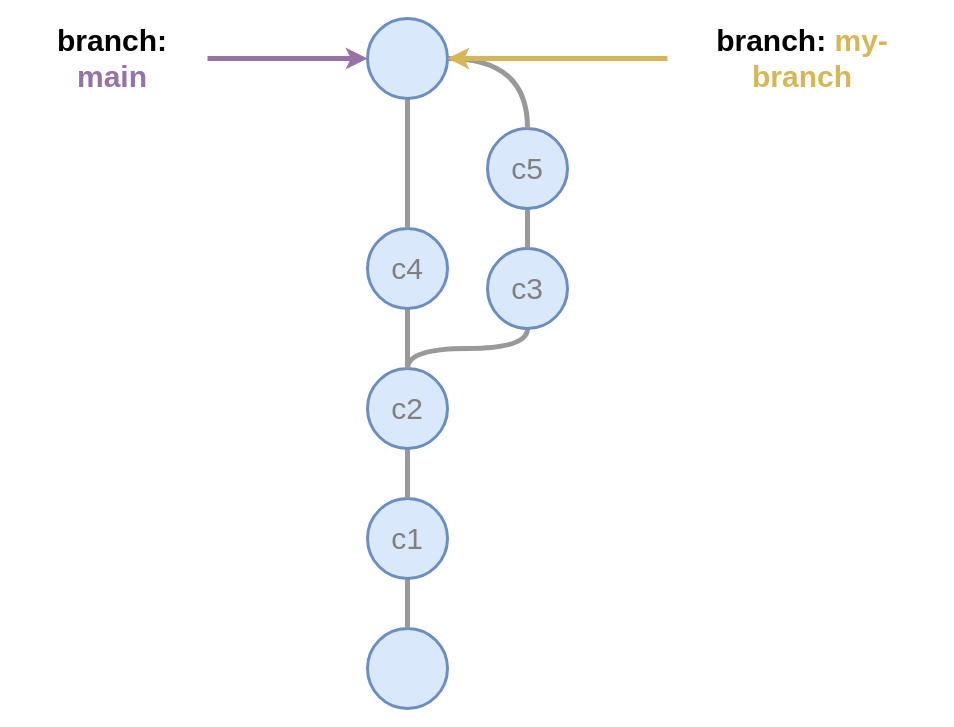
The diagram is 954 pixels wide and 727 high, and some of its shapes have lost their labels. Each missing label, with the box of its shape:
c0: (366, 626, 448, 710)
c6: (366, 16, 448, 100)
